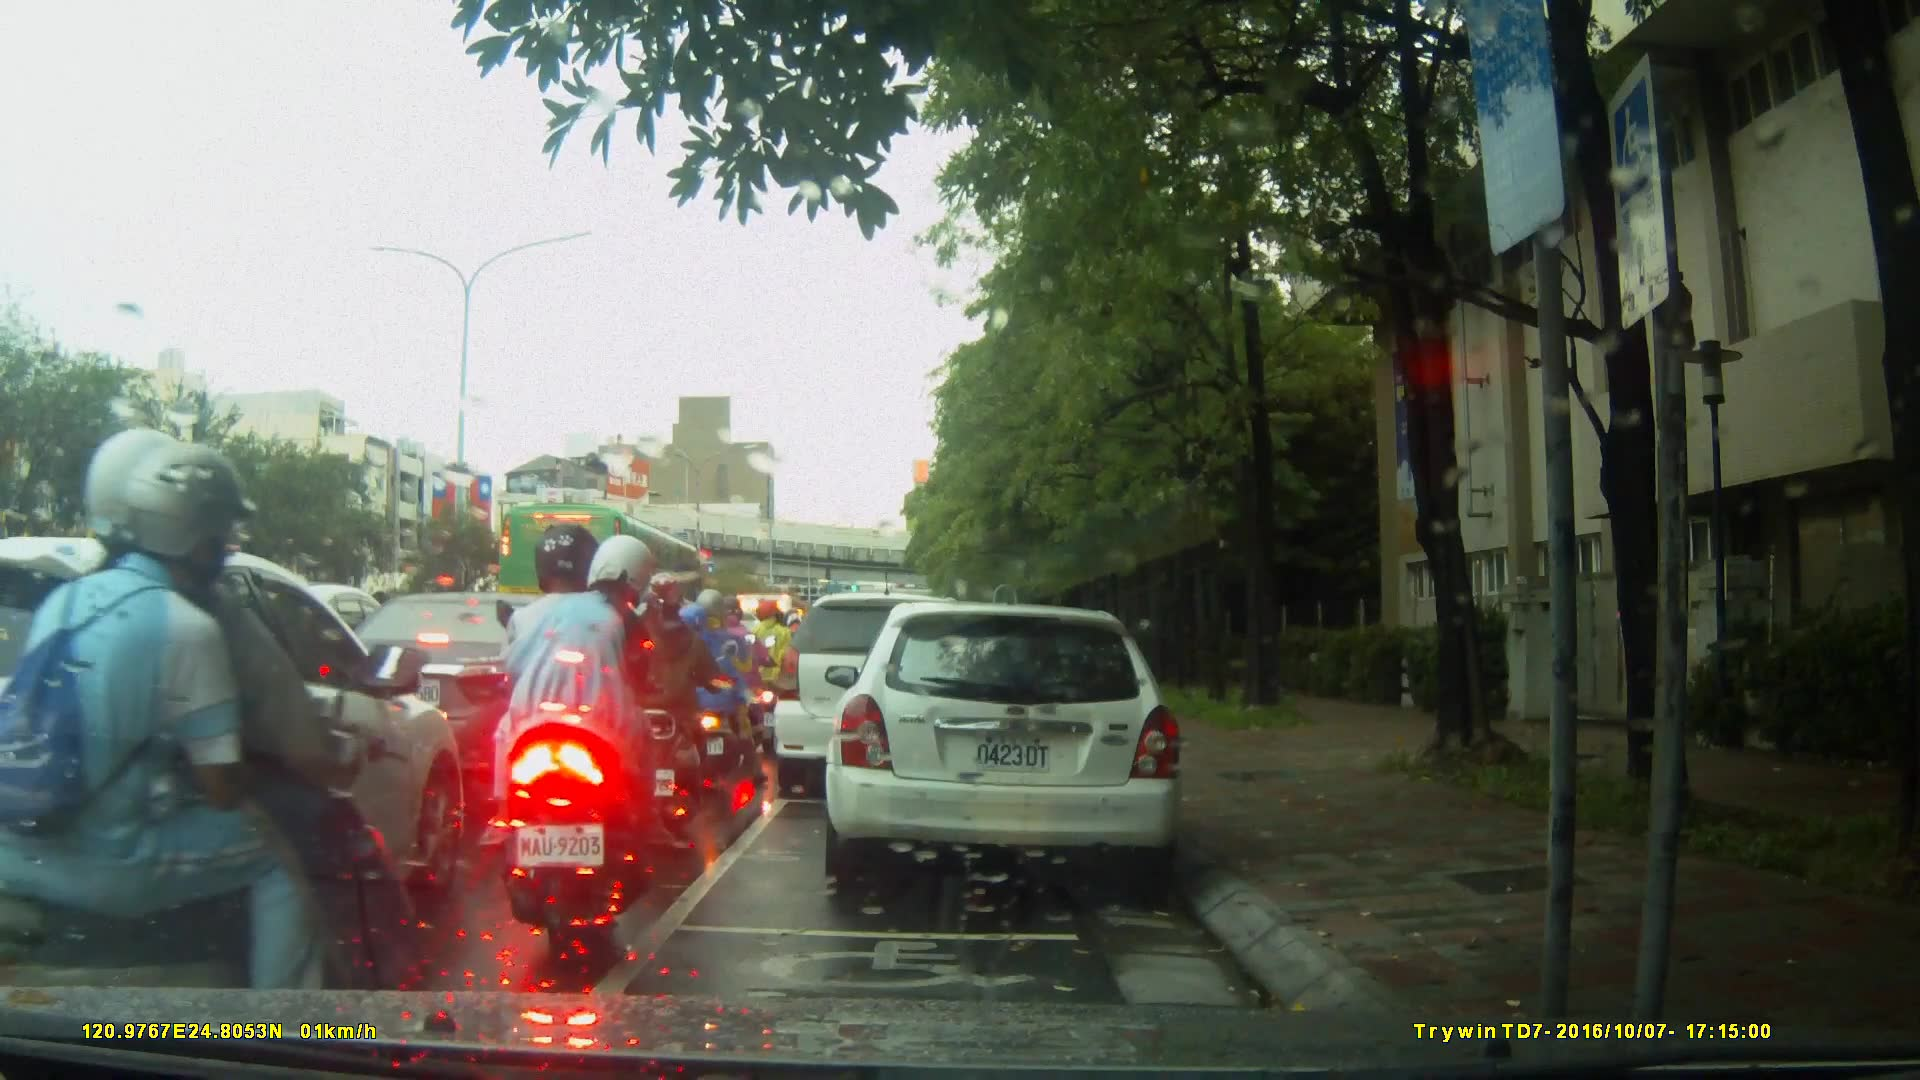rider: (1, 422, 442, 1080), (493, 522, 685, 957), (619, 574, 736, 834), (671, 589, 755, 786), (700, 598, 773, 764), (746, 598, 798, 740)
vehicle: (3, 536, 463, 988), (831, 592, 1196, 897), (312, 589, 629, 776), (771, 590, 999, 803), (495, 500, 711, 636)
